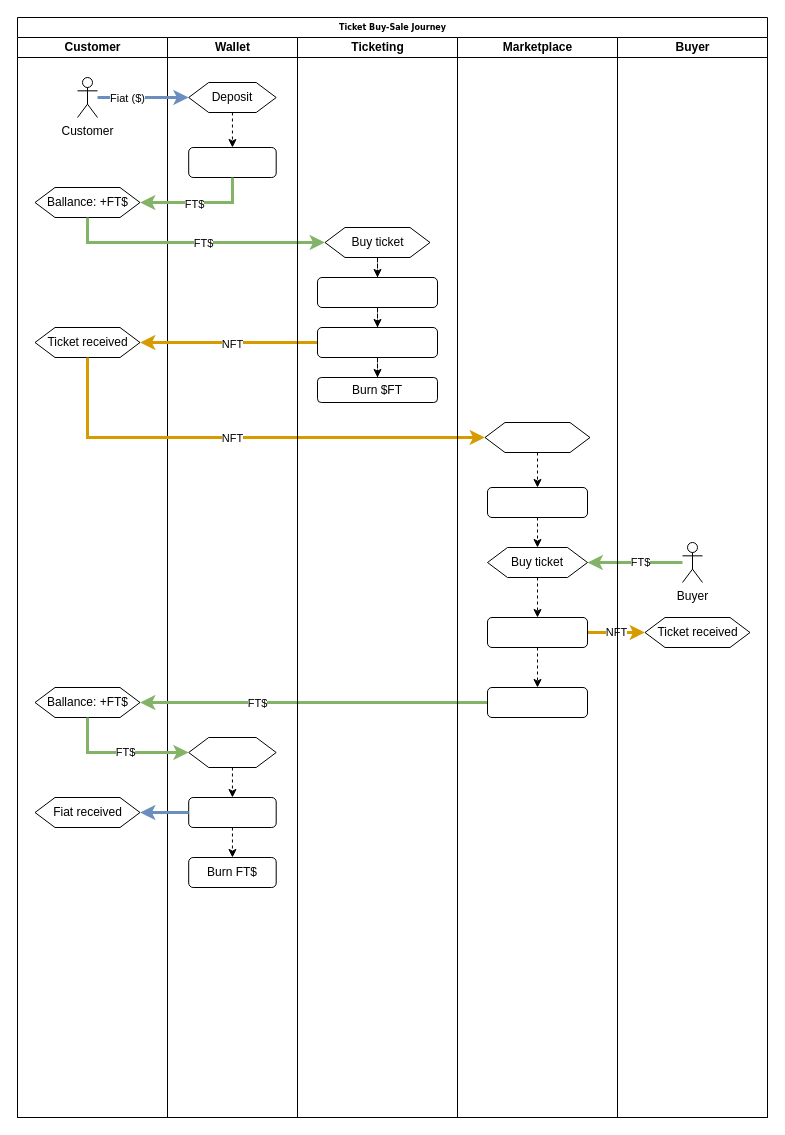
Image size: 785x1135. Some labels were removed from this diagram. The centre of each missing label's shape, as x and y in pixels:
"Create listing" belongs at (537,502).
"List for sale" belongs at (537,437).
"Lock seats" belongs at (377,292).
"Mint FT$" belongs at (232,162).
"Mint ticket NFT" belongs at (377,342).
"Tranfer fiat" belongs at (232,812).
"Transfer $FT" belongs at (537,702).
"Transfer NFT" belongs at (537,632).
"Withdraw" belongs at (232,752).
